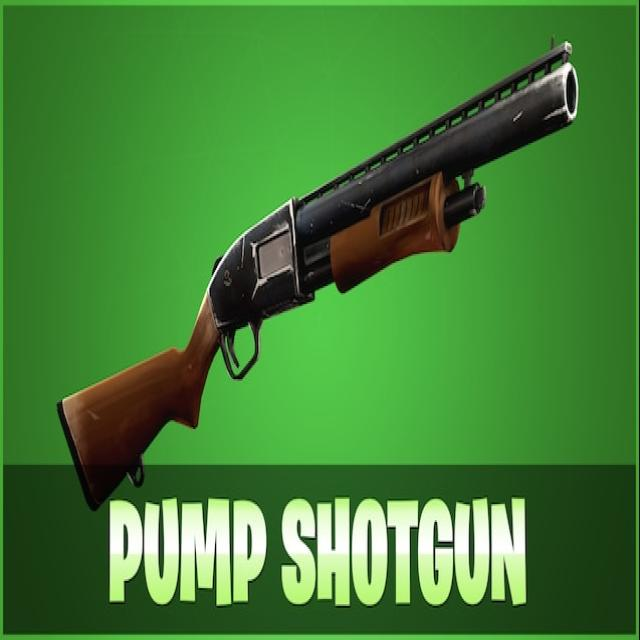ShotGun: (57, 46, 578, 509)
